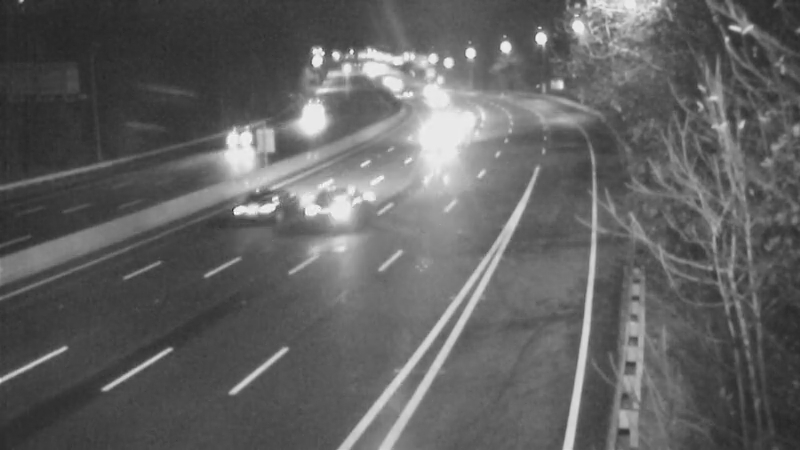vehicle: (287, 168, 367, 248), (210, 169, 290, 249), (367, 60, 417, 110), (405, 65, 455, 115), (380, 71, 430, 121), (415, 76, 465, 126), (437, 95, 487, 145), (411, 115, 461, 165), (206, 120, 256, 170), (288, 93, 338, 143)
